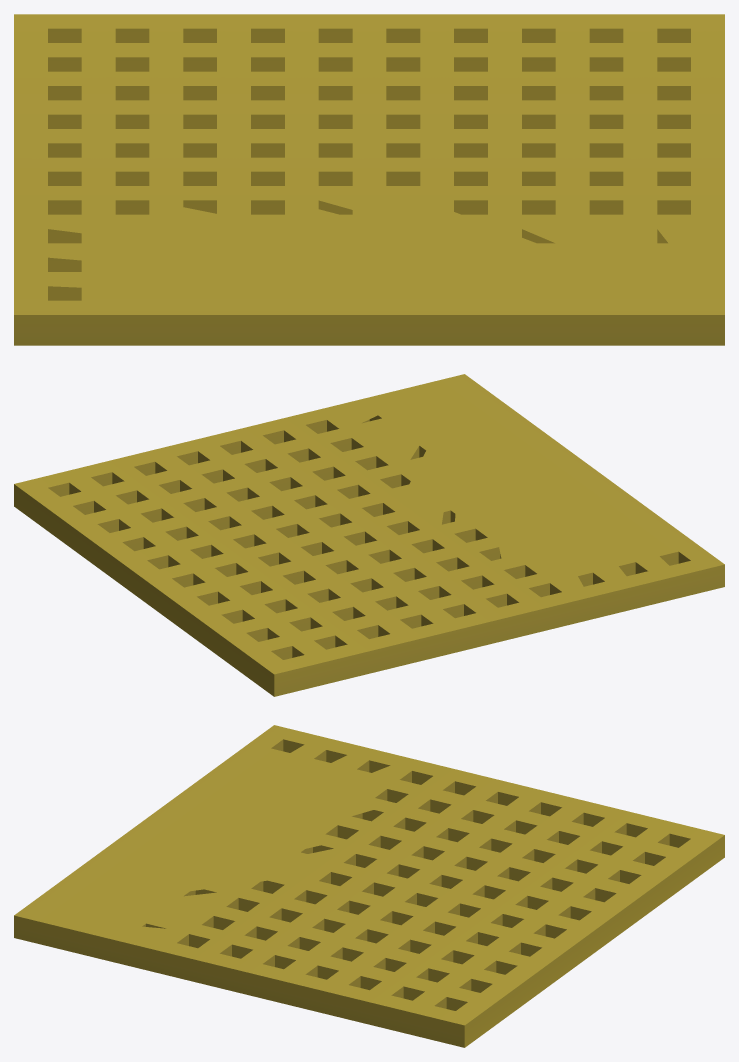
The model's file is grate.fbx.
3 views of the same model, one above another, from view 1: azimuth 30°, elevation 25°; view 2: azimuth 150°, elevation 25°; view 3: azimuth 270°, elevation 25° (orthographic). The views are drawn at different scales.
Visible parts, largest first — view 1: grate; view 2: grate; view 3: grate.
Part boxes in pixels (x1,y1,x2,y2): grate: (14,14,724,345); grate: (14,374,724,696); grate: (14,725,724,1047).
Size of the model in its own units: 0.0145 by 0.000504 by 0.0145.
1 material, 1 textured.
